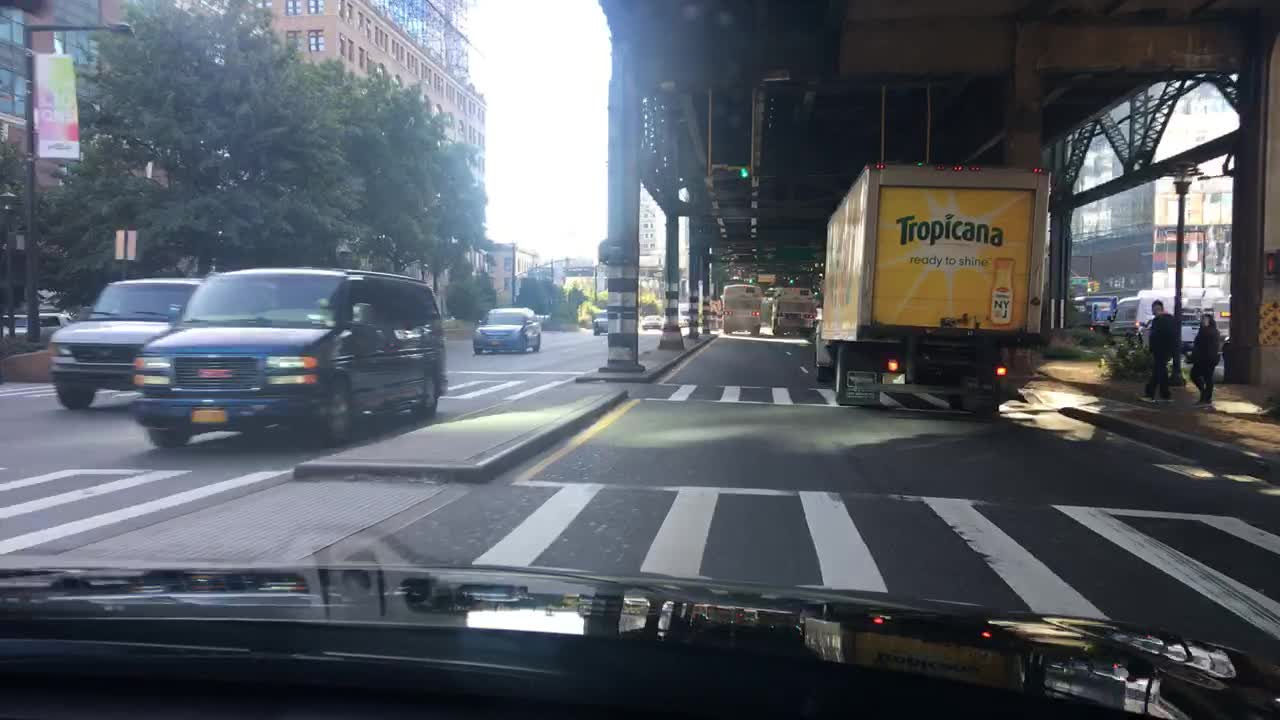bus: (1107, 289, 1228, 362), (721, 282, 763, 333)
car: (134, 266, 446, 451), (48, 276, 212, 410), (471, 306, 542, 355), (1, 309, 78, 345), (592, 310, 609, 335), (642, 314, 663, 330), (676, 317, 682, 329), (683, 317, 689, 325)
person: (1137, 297, 1181, 405), (1188, 311, 1223, 408)
traffic light: (33, 155, 63, 197), (1266, 246, 1279, 275), (736, 166, 750, 178), (1087, 280, 1095, 292), (1094, 280, 1100, 291)
traffic sign: (113, 228, 136, 262), (13, 231, 27, 252), (759, 272, 775, 282), (1069, 278, 1087, 285), (512, 279, 520, 285), (789, 275, 794, 284), (513, 287, 518, 295)
truck: (812, 162, 1043, 419), (1069, 295, 1119, 340), (773, 286, 817, 337), (764, 287, 782, 324)
